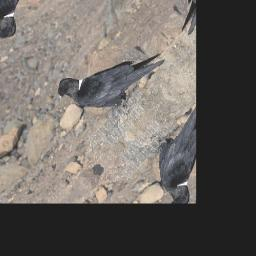Crow: (50, 14, 177, 144)
